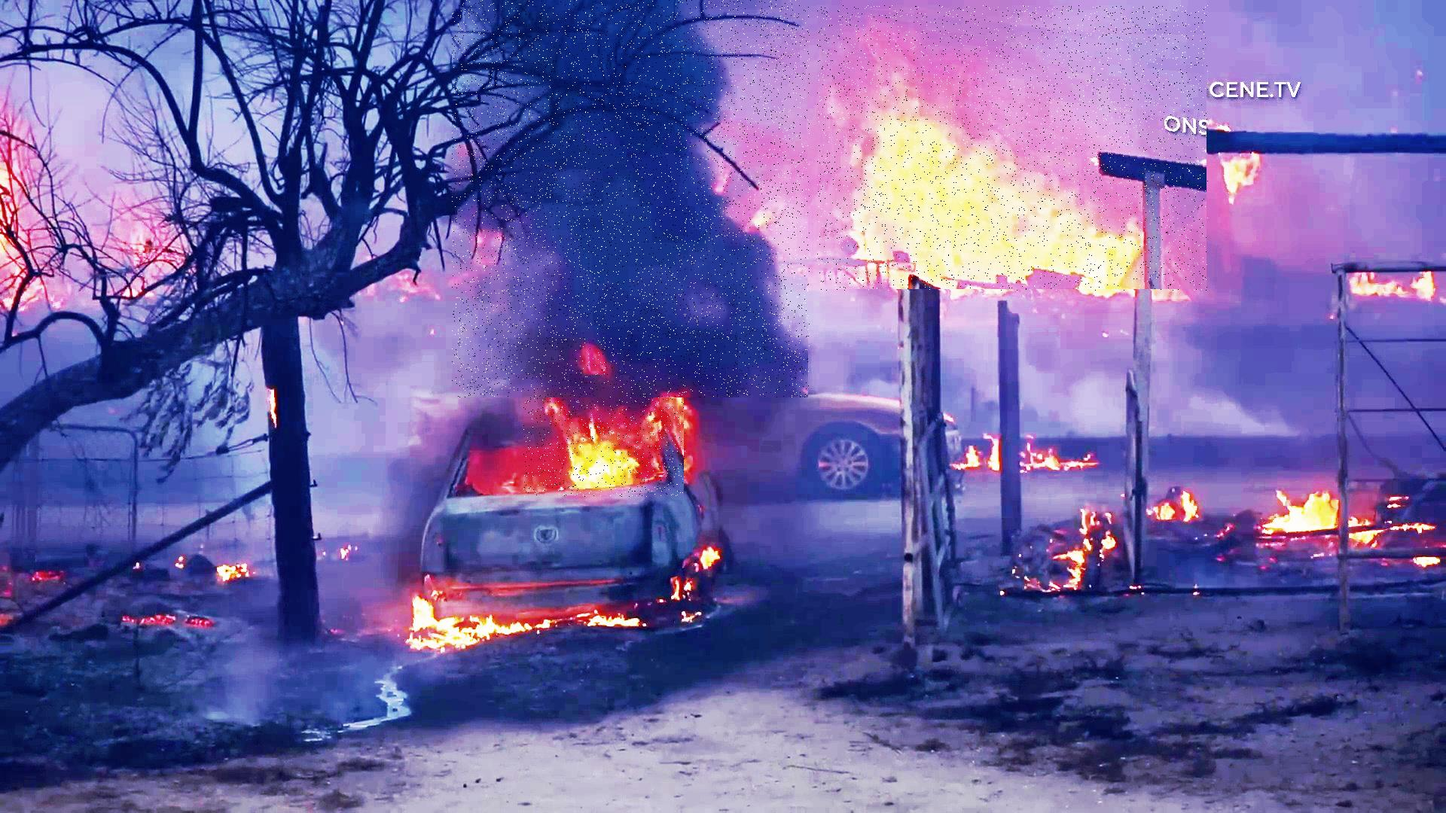fire: (818, 6, 1209, 291), (524, 377, 686, 497)
smoke: (453, 0, 810, 397)
